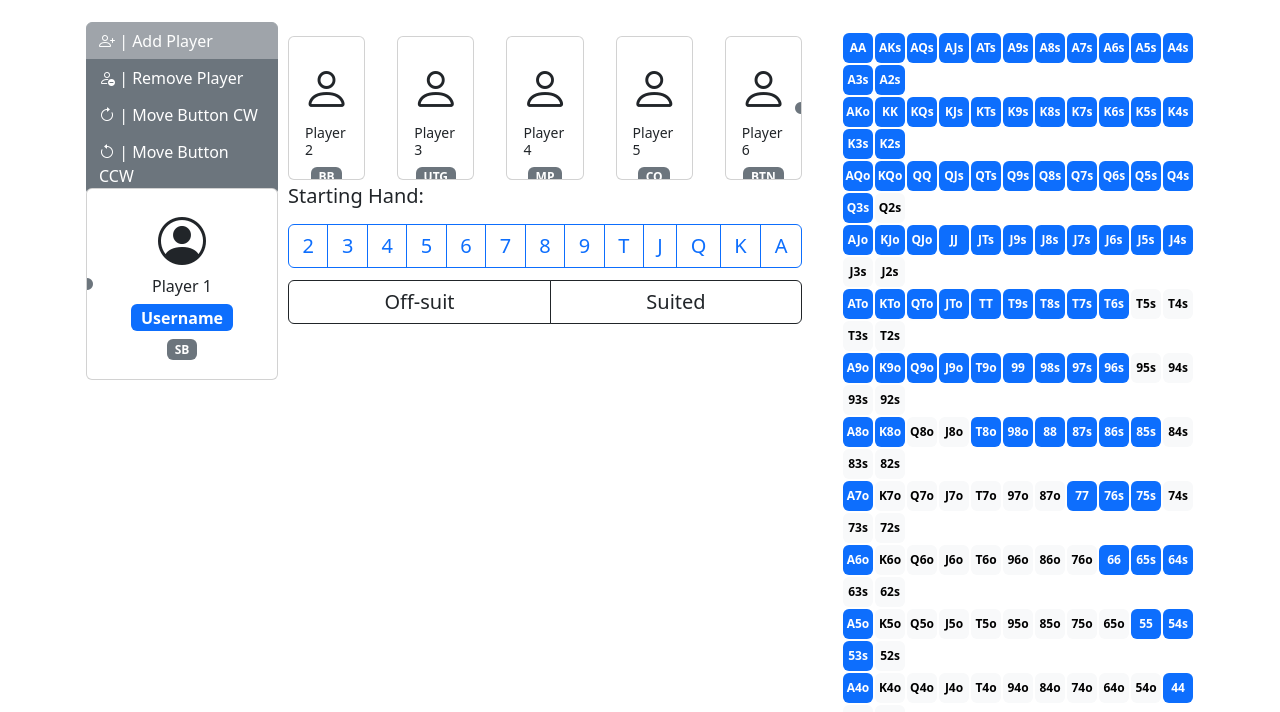
it: Tests de l'application Poker Range › Ajout de joueurs jusqu'au min, puis jusqu’au max
This screenshot has width=1280, height=712.
Expected: the element showing "Player 6 BTN" is shown, x1=725 y1=36 x2=802 y2=180
Step 1. Click the button with id "remove-player-btn" → {"x": 182, "y": 78}, box x1=86 y1=59 x2=278 y2=97
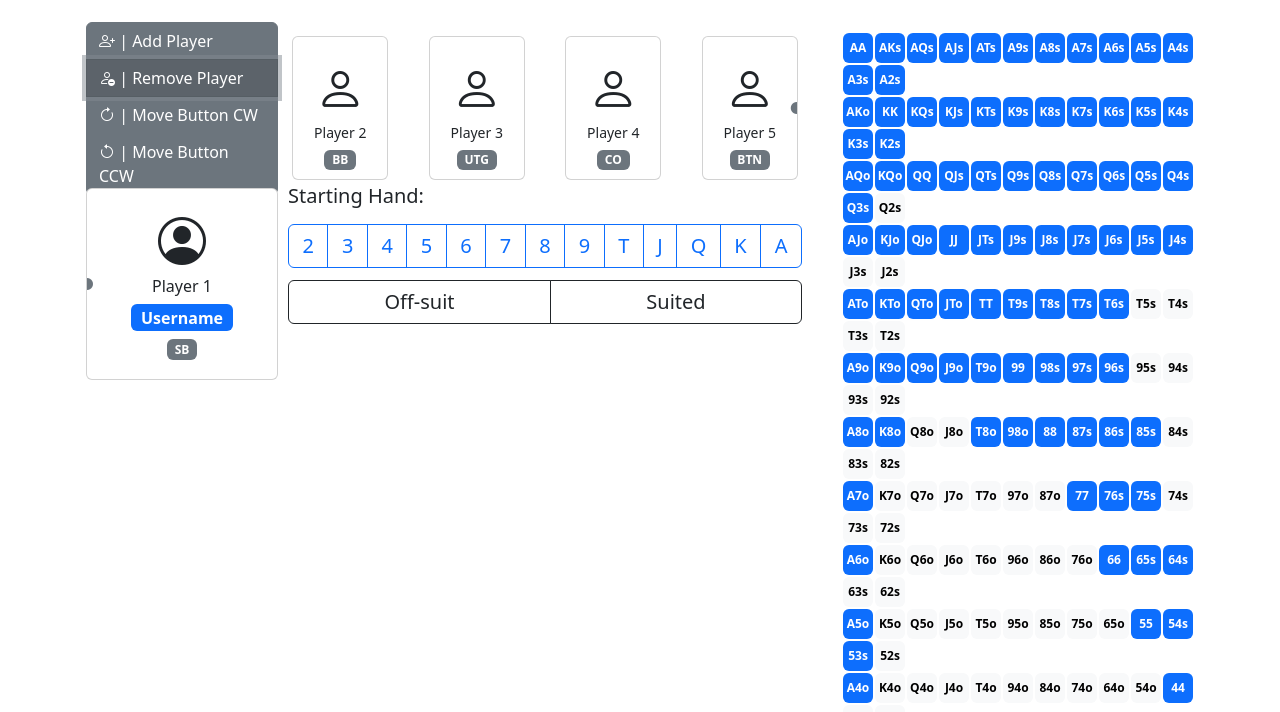
Expected: the element showing "Player 5 BTN" is shown, x1=702 y1=36 x2=798 y2=180
Step 2. Click the button with id "remove-player-btn" → {"x": 182, "y": 78}, box x1=86 y1=59 x2=278 y2=97
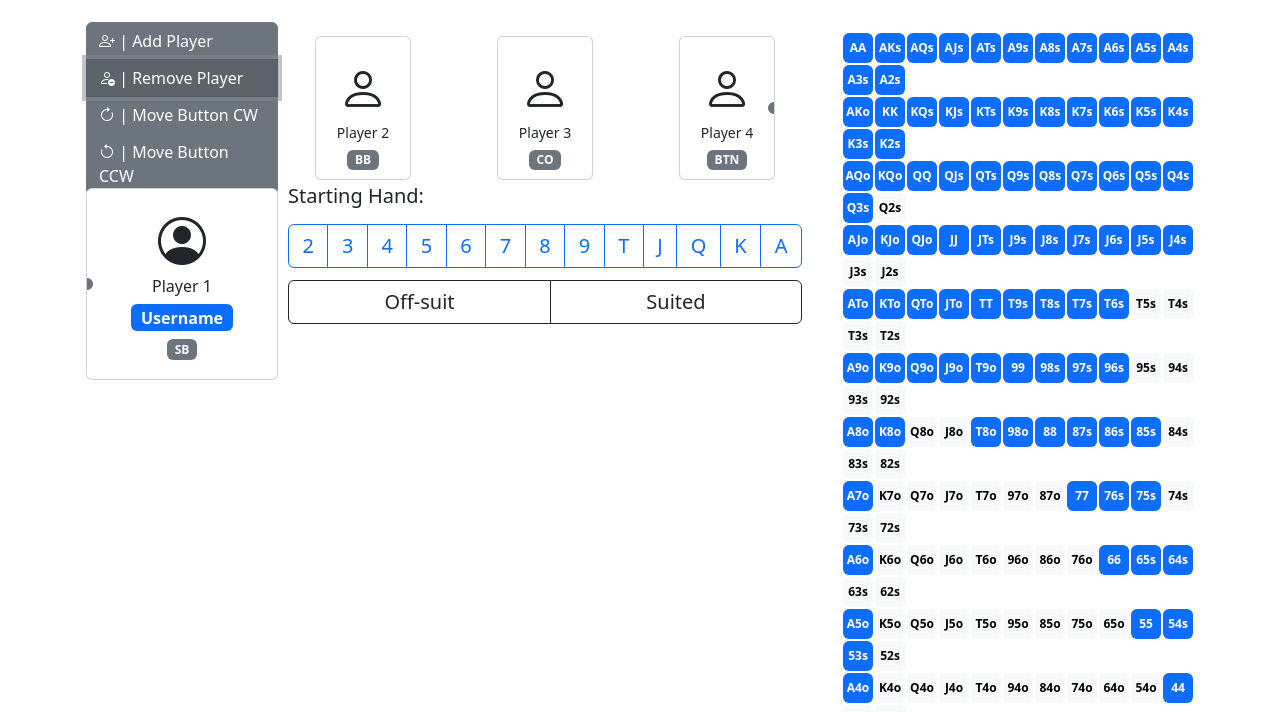
Expected: the element showing "Player 4 BTN" is shown, x1=679 y1=36 x2=775 y2=180
Step 3. Click the button with id "remove-player-btn" → {"x": 182, "y": 78}, box x1=86 y1=59 x2=278 y2=97
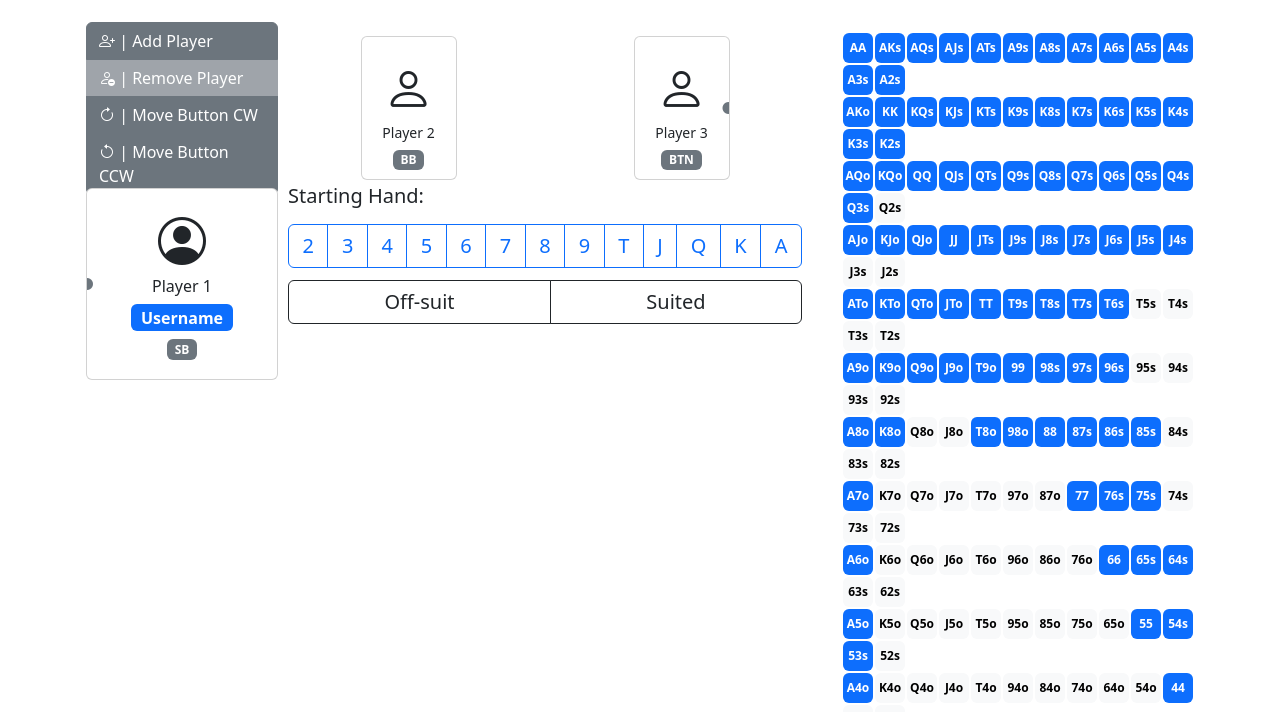
Expected: the element showing "Player 3 BTN" is shown, x1=634 y1=36 x2=730 y2=180
Expected: the button with id "remove-player-btn" is disabled, x1=86 y1=59 x2=278 y2=97
Step 4. Click the button with id "add-player-btn" → {"x": 182, "y": 41}, box x1=86 y1=22 x2=278 y2=60
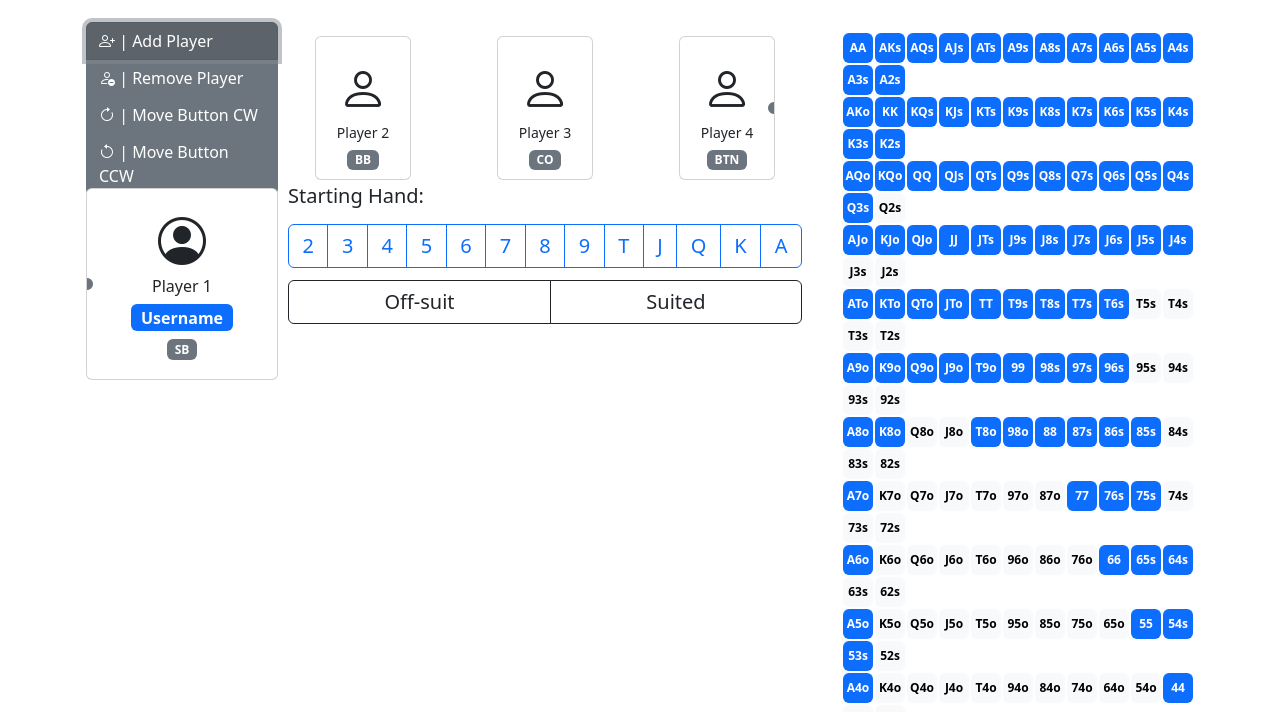
Expected: the element showing "Player 4 BTN" is shown, x1=679 y1=36 x2=775 y2=180
Step 5. Click the button with id "add-player-btn" → {"x": 182, "y": 41}, box x1=86 y1=22 x2=278 y2=60
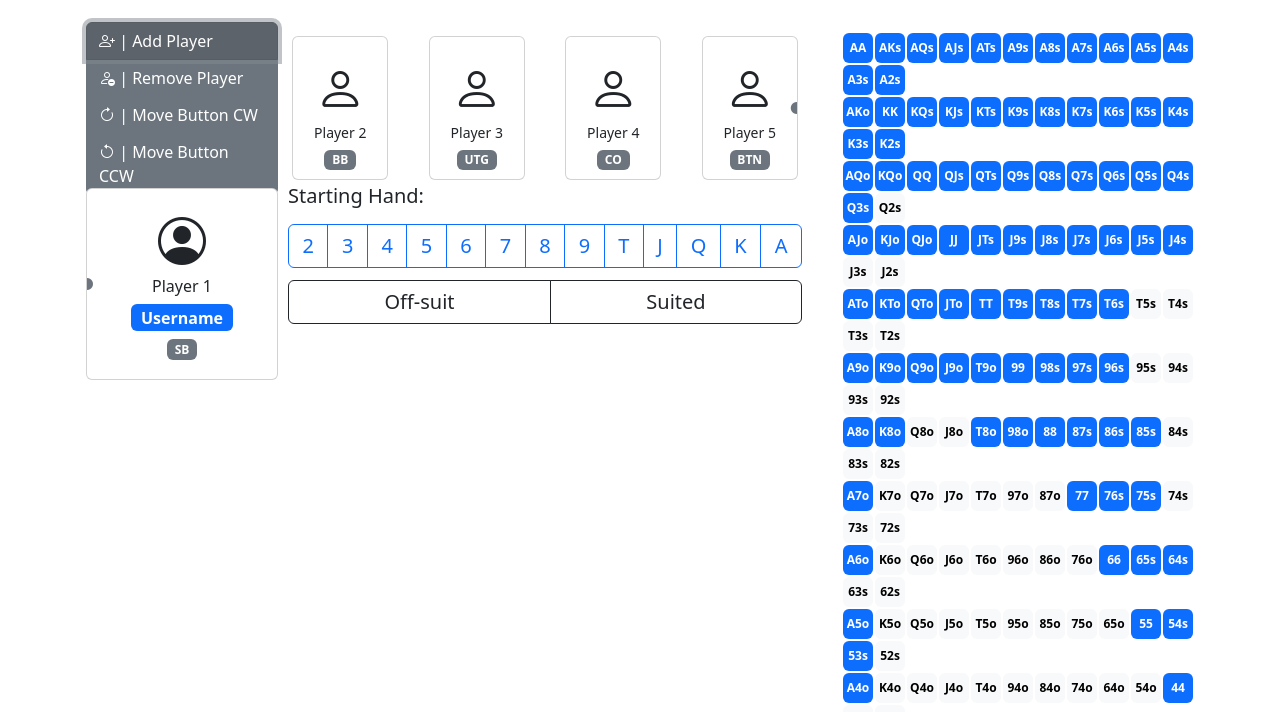
Expected: the element showing "Player 5 BTN" is shown, x1=702 y1=36 x2=798 y2=180
Step 6. Click the button with id "add-player-btn" → {"x": 182, "y": 41}, box x1=86 y1=22 x2=278 y2=60
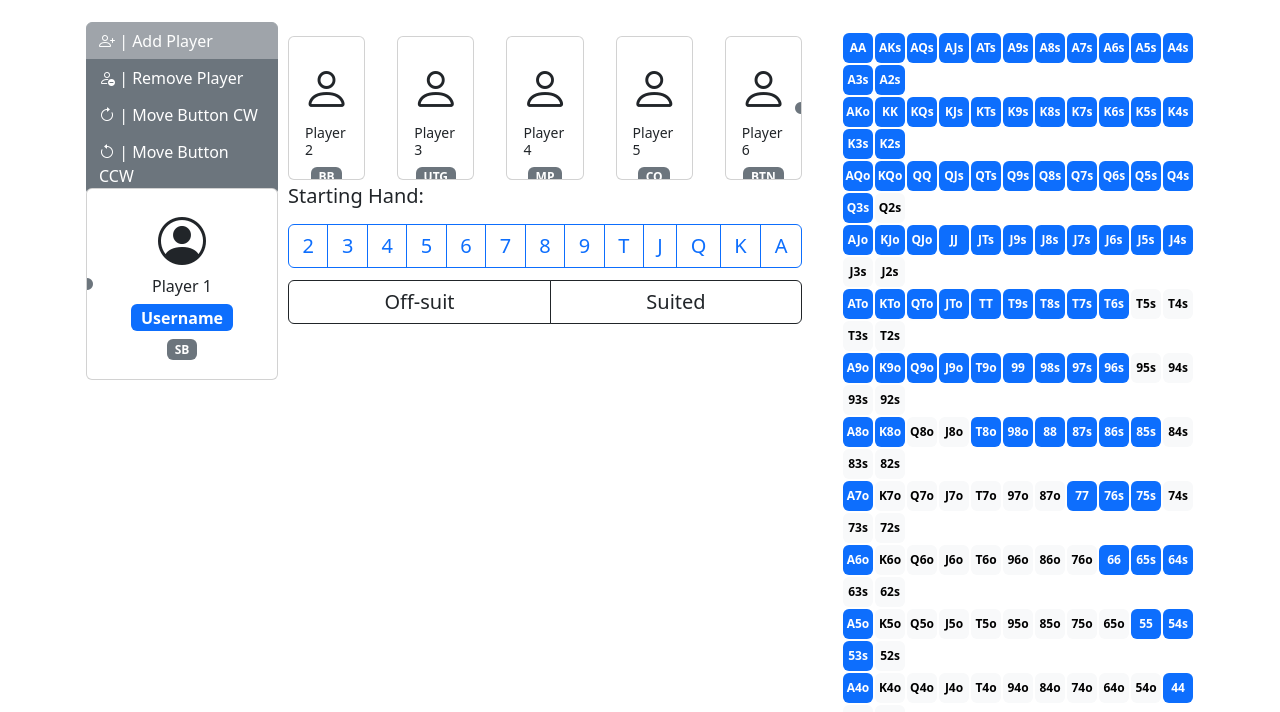
Expected: the element showing "Player 6 BTN" is shown, x1=725 y1=36 x2=802 y2=180
Expected: the button with id "add-player-btn" is disabled, x1=86 y1=22 x2=278 y2=60
